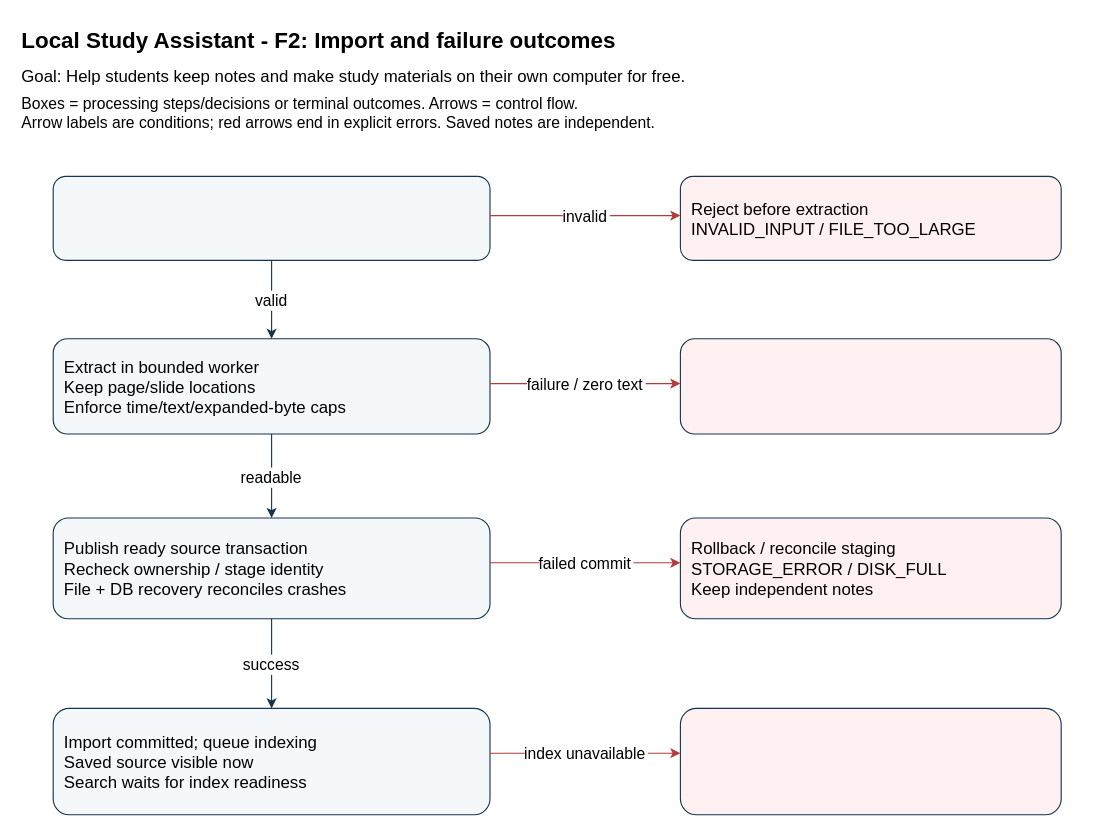
The diagram is 1113 pixels wide and 834 high, and some of its shapes have lost their labels. The shapes that lost their labels are listed below. From the top down, each one's centre as x and y in pixels, then its label:
(x=271, y=217): Trusted picker -> stage file Check type, byte cap, course/session
(x=870, y=386): Stop; no partial publication PARSE_FAILED / IMPORT_LIMIT TIMEOUT / NO_TEXT
(x=870, y=761): Import stays committed MODEL_UNAVAILABLE / BUSY Retry indexing after correction
